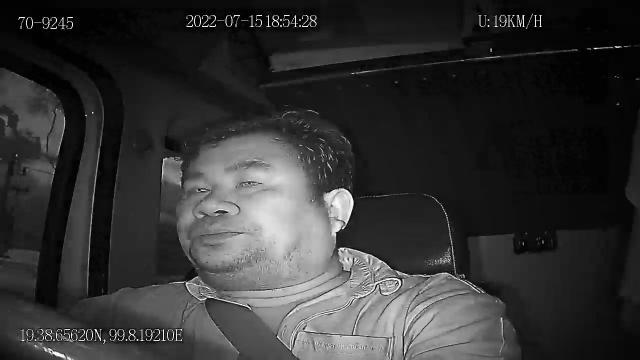SafeDriving: (231, 168, 273, 194), (180, 175, 218, 200)
Seatbelt: (204, 296, 302, 360)
